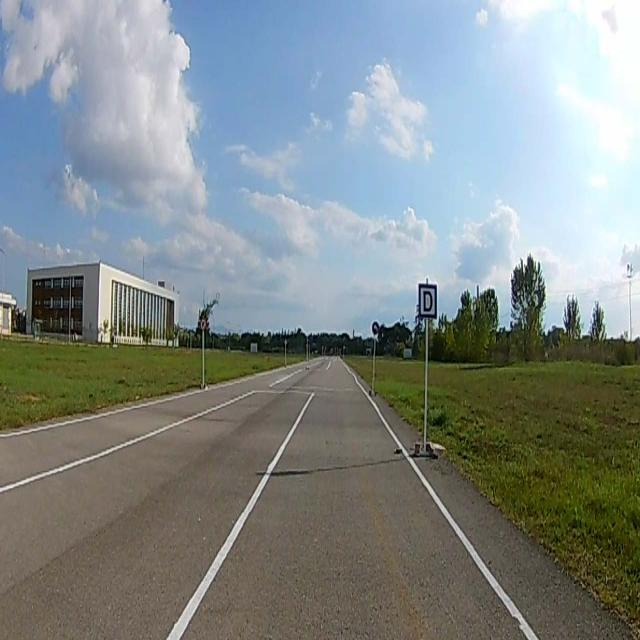durak: (419, 286, 437, 318)
